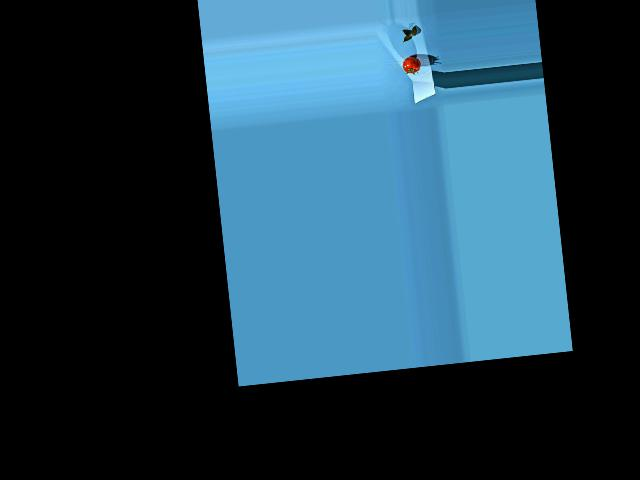tomato: (401, 56, 421, 74)
